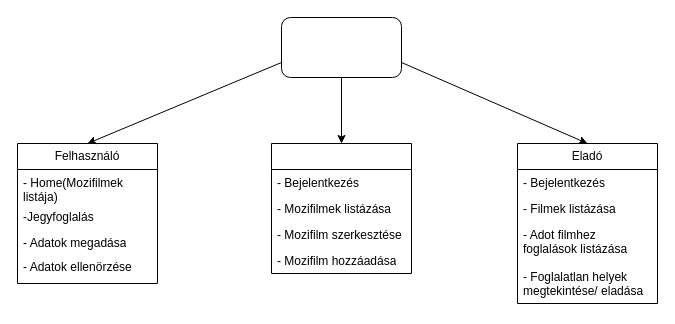
Image size: 675x324. Some labels were removed from this diagram. Each missing label, with the box of its shape:
Oldalak: (280, 16, 402, 78)
Üzemeltető: (270, 142, 412, 274)
